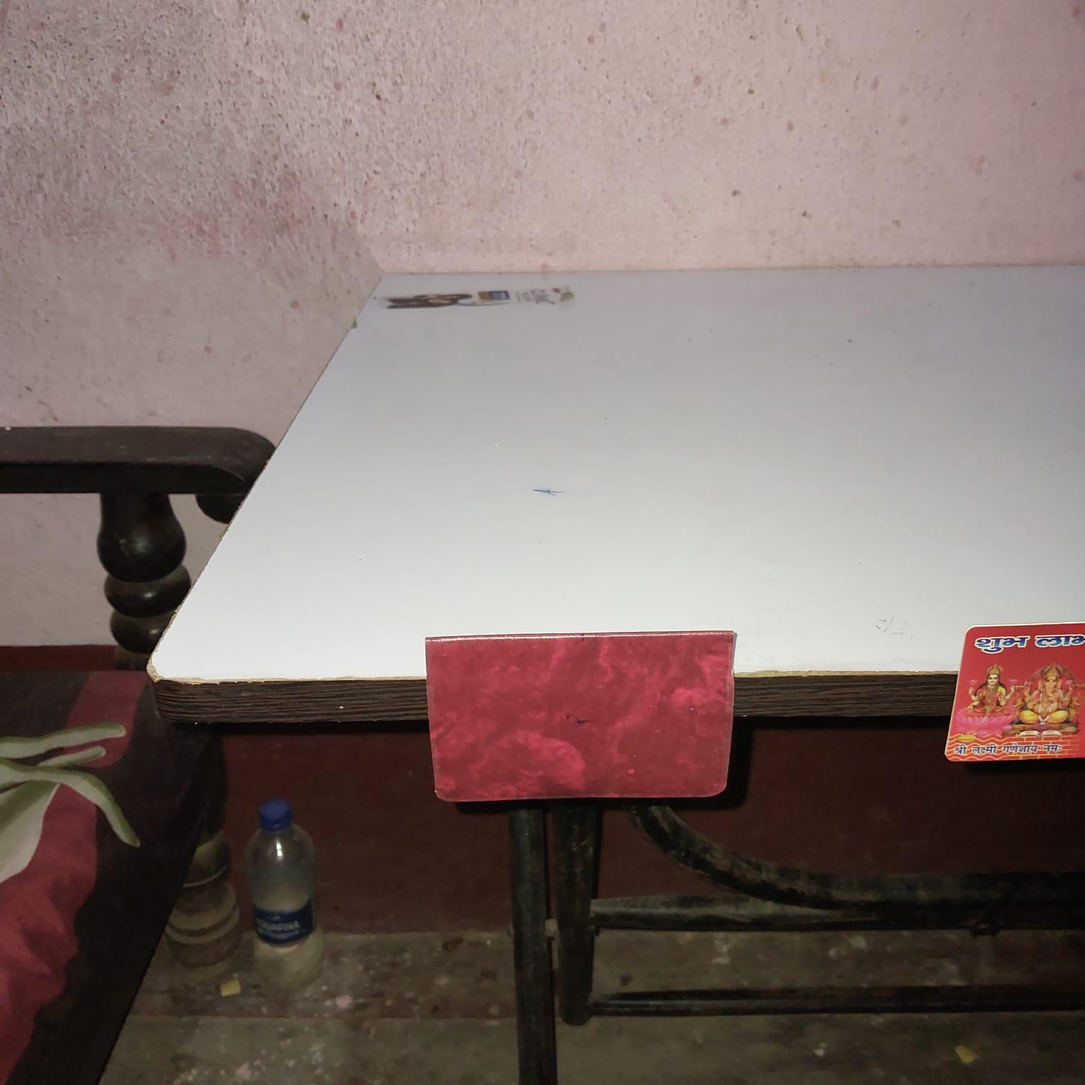blessing_card: (943, 620, 1084, 770)
wallet: (421, 624, 743, 817)
